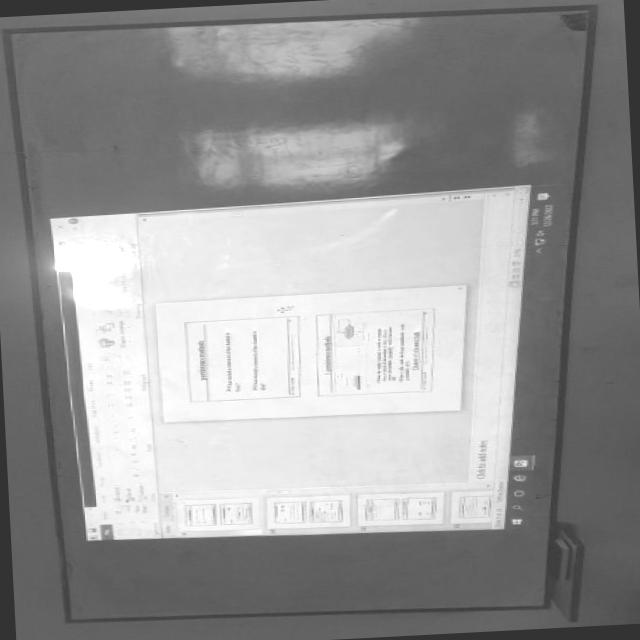Slide: (50, 181, 561, 542)
White-board: (8, 4, 594, 620)
